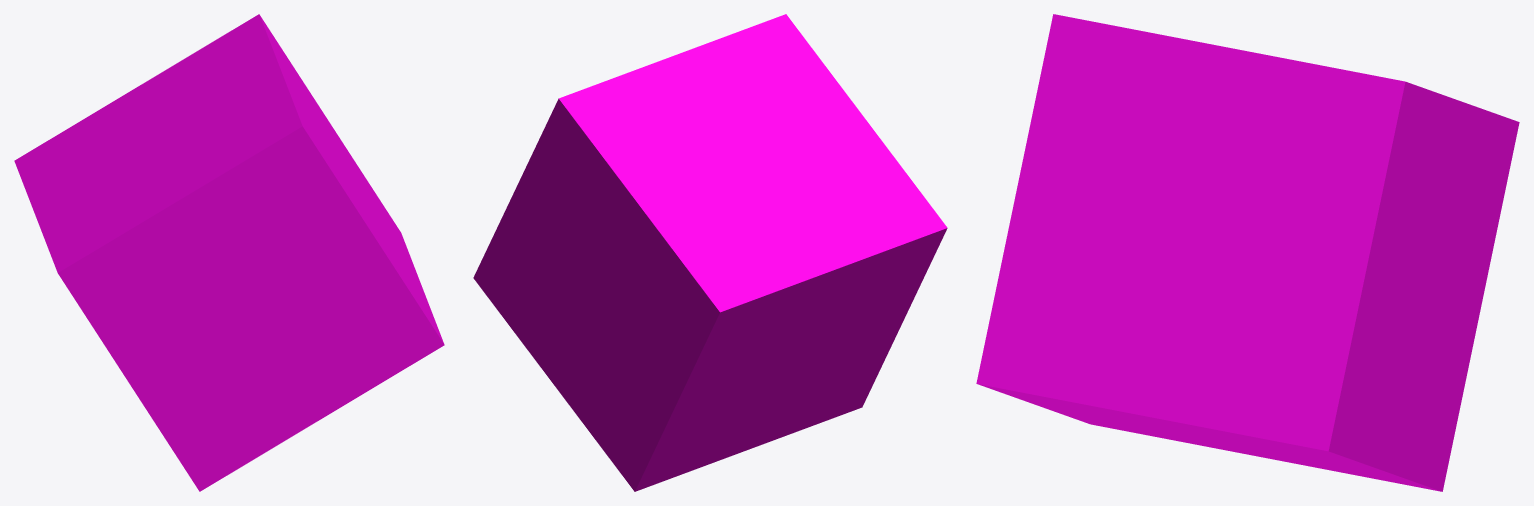
3 renders of one model, left to right at view 1: azimuth 30°, elevation 25°; view 2: azimuth 150°, elevation 25°; view 3: azimuth 270°, elevation 25°, orthographic. The views are drawn at different scales.
Size of the model in its own units: 1.63 by 1.39 by 1.44.
